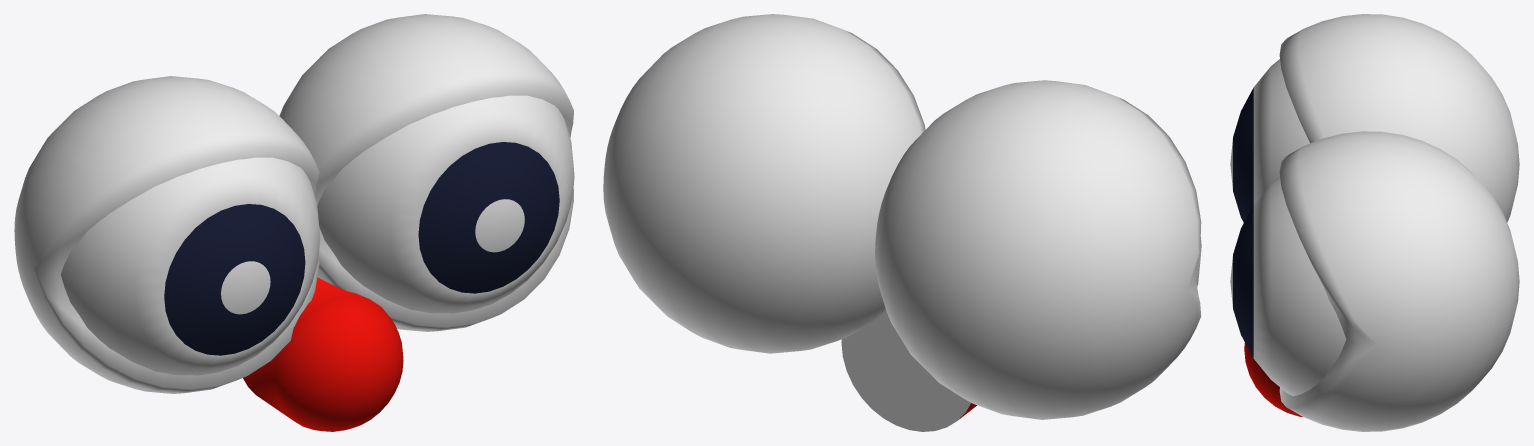
File: cartoon.glb
3 views of the same model, side by side, from view 1: azimuth 30°, elevation 25°; view 2: azimuth 150°, elevation 25°; view 3: azimuth 270°, elevation 25° (orthographic). The views are drawn at different scales.
Parts seen in each view (by area): view 1: cartooneyes_OBJ; view 2: cartooneyes_OBJ; view 3: cartooneyes_OBJ.
Part boxes in pixels (<box>): cartooneyes_OBJ: <box>14,14,574,431</box>; cartooneyes_OBJ: <box>603,14,1201,431</box>; cartooneyes_OBJ: <box>1230,14,1519,431</box>.
Bounding box in the file's own units: 83.15 × 51.64 × 41.67.
